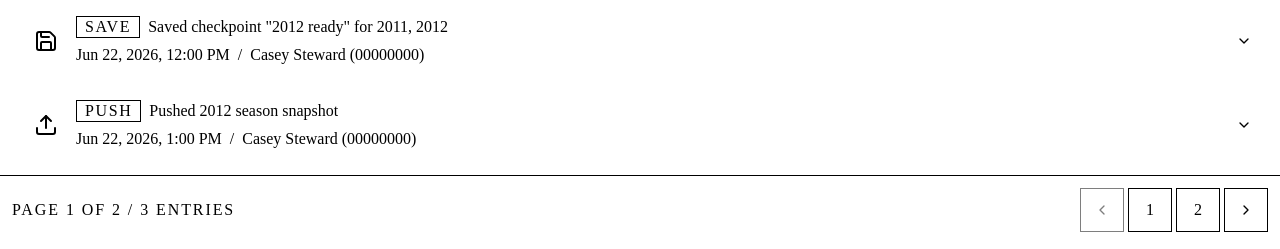
Scenario: paginated ledger fetches pages from the server and marks the current page
expect the text "Page 1 of 2 / 3 entries" is shown: met, box [12,201,235,218]
Step 1. Click the button named "Page 2" → click(1198, 210), box [1176,188,1220,232]
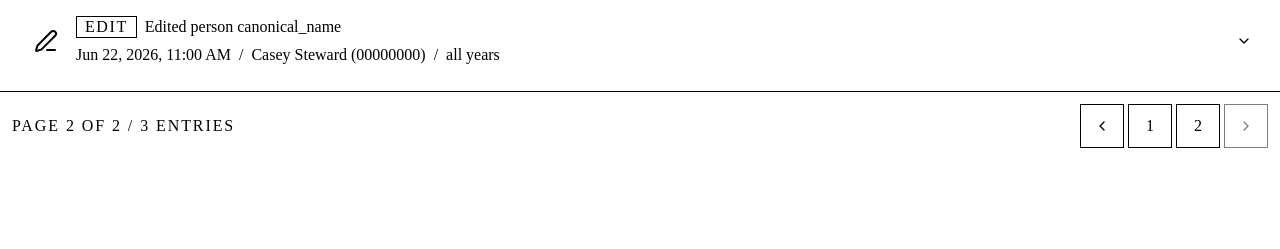
expect the text "Page 2 of 2 / 3 entries" is shown: met, box [12,117,235,134]
